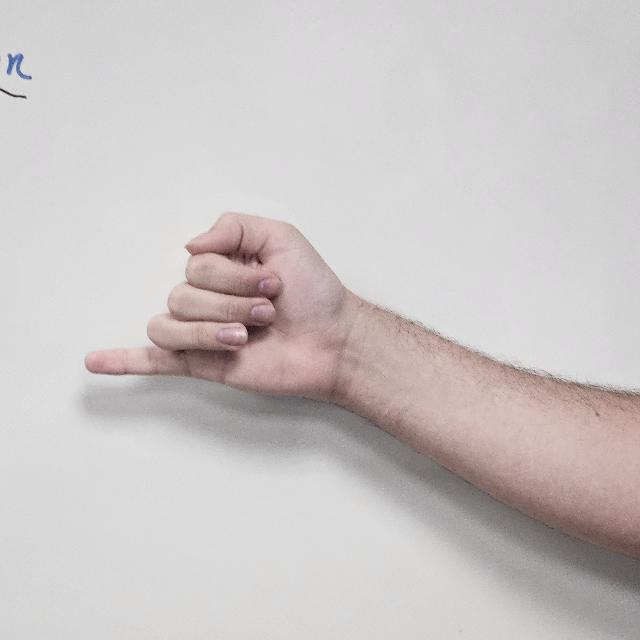Esquerda: (80, 197, 392, 447)
